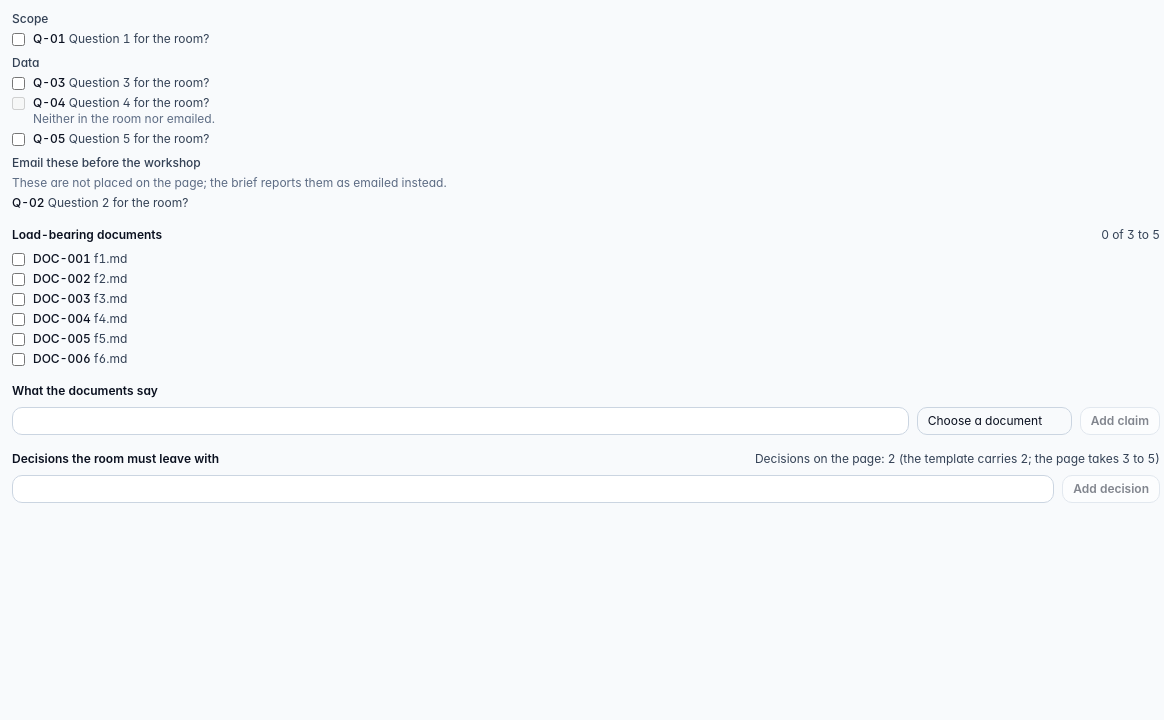
Test case: BriefForm: load-bearing documents › stops a sixth document being added
The width and height of the screenshot is (1164, 720).
(page scrolled)
Click the checkbox named "Load-bearing DOC-001" at (18, 260), box x1=12 y1=253 x2=25 y2=266
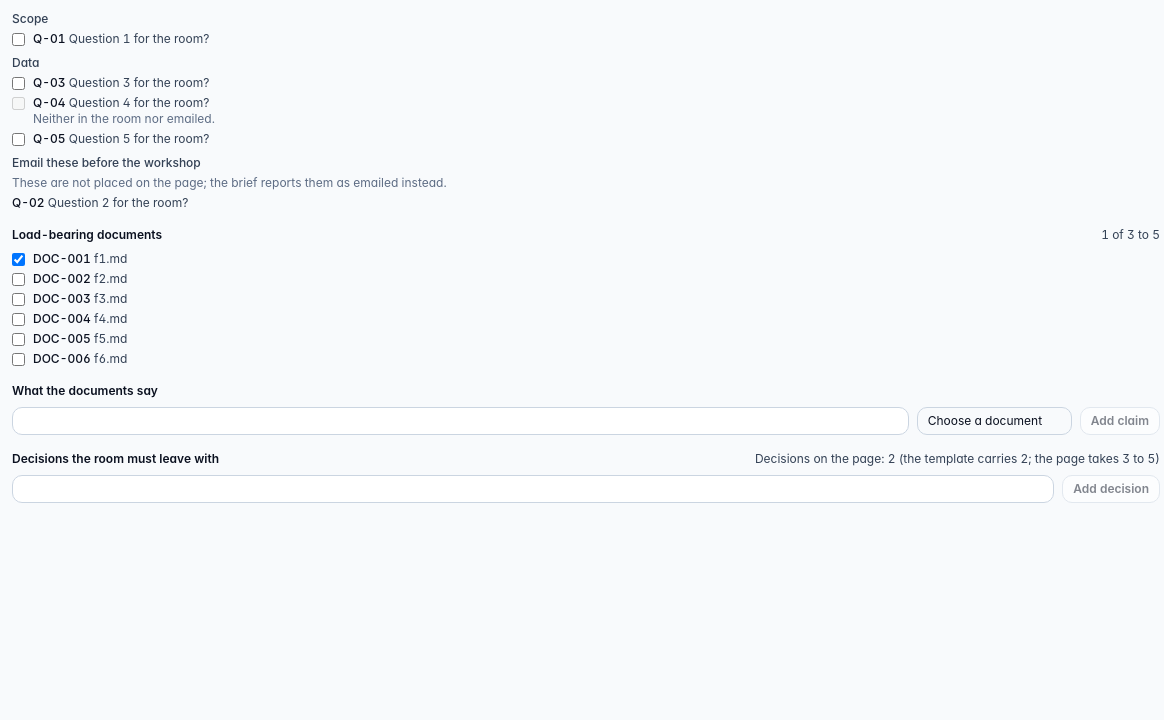
Click the checkbox named "Load-bearing DOC-002" at (18, 280), box x1=12 y1=273 x2=25 y2=286
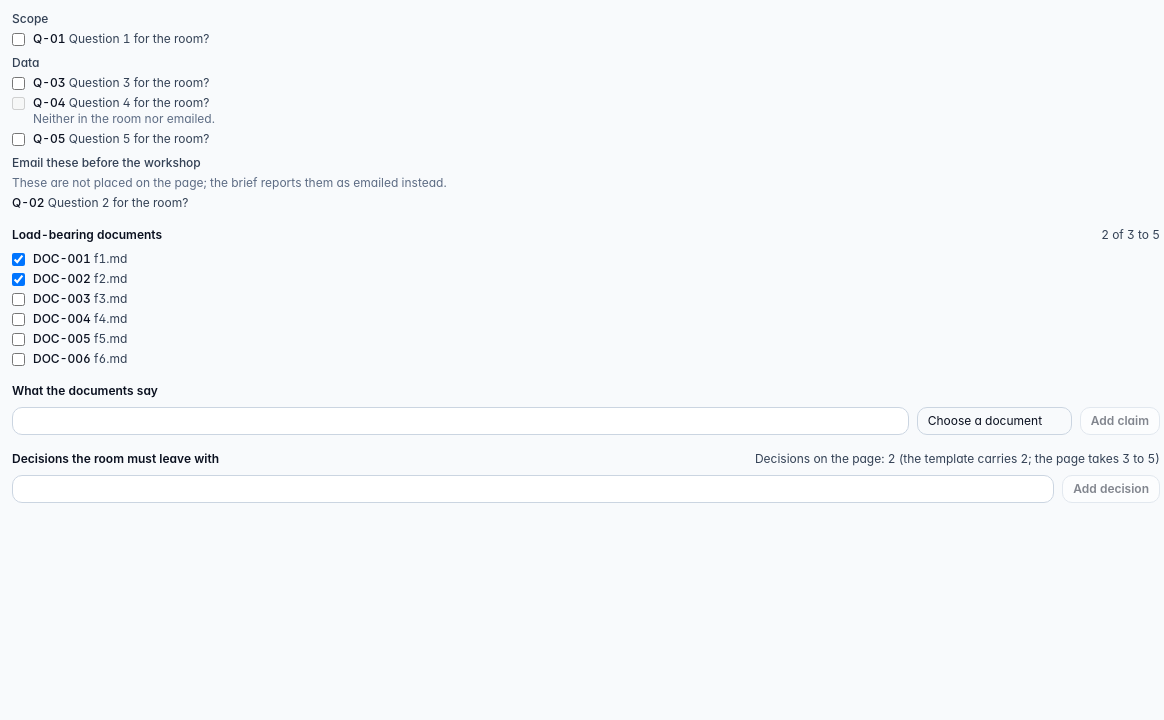
Click the checkbox named "Load-bearing DOC-003" at (18, 300), box x1=12 y1=293 x2=25 y2=306
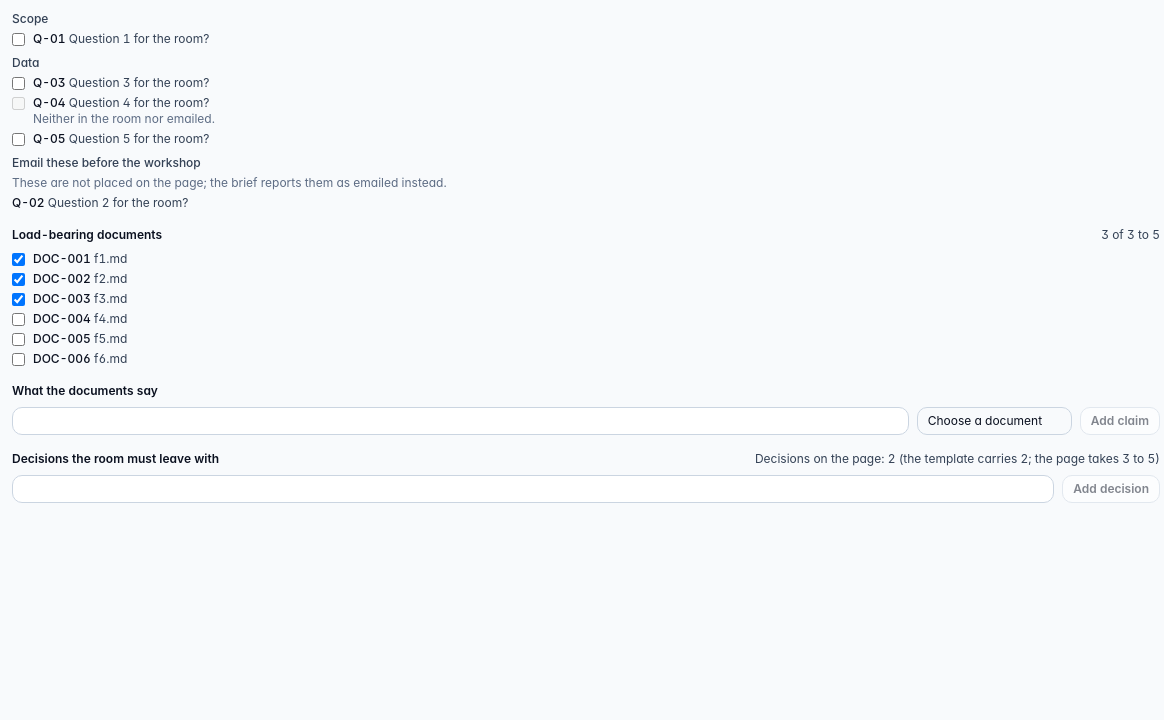
Click the checkbox named "Load-bearing DOC-004" at (18, 320), box x1=12 y1=313 x2=25 y2=326
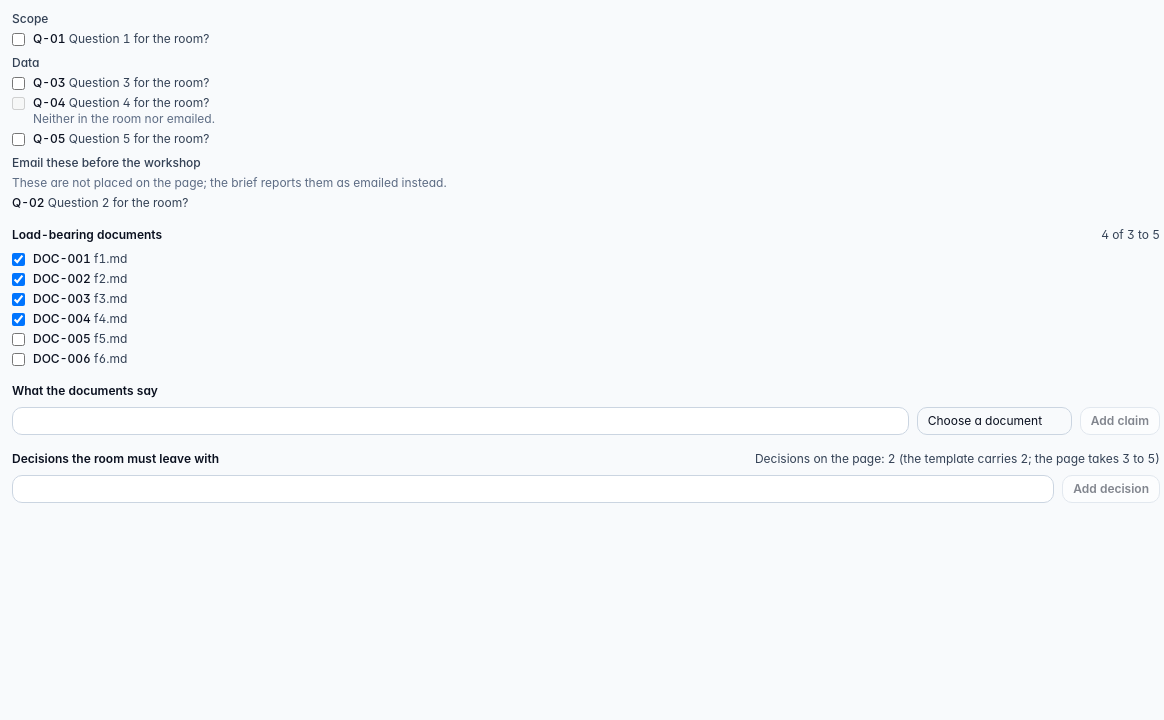
Click the checkbox named "Load-bearing DOC-005" at (18, 340), box x1=12 y1=333 x2=25 y2=346
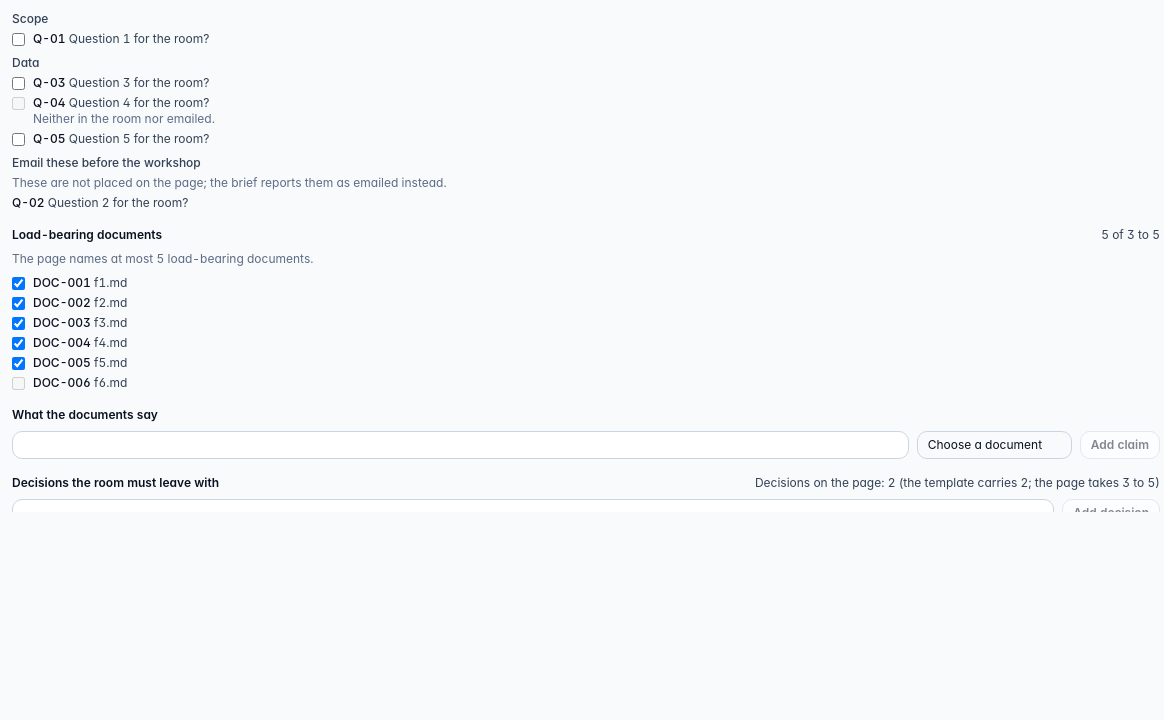
Expected: the checkbox named "Load-bearing DOC-006" is disabled, x1=12 y1=377 x2=25 y2=390
